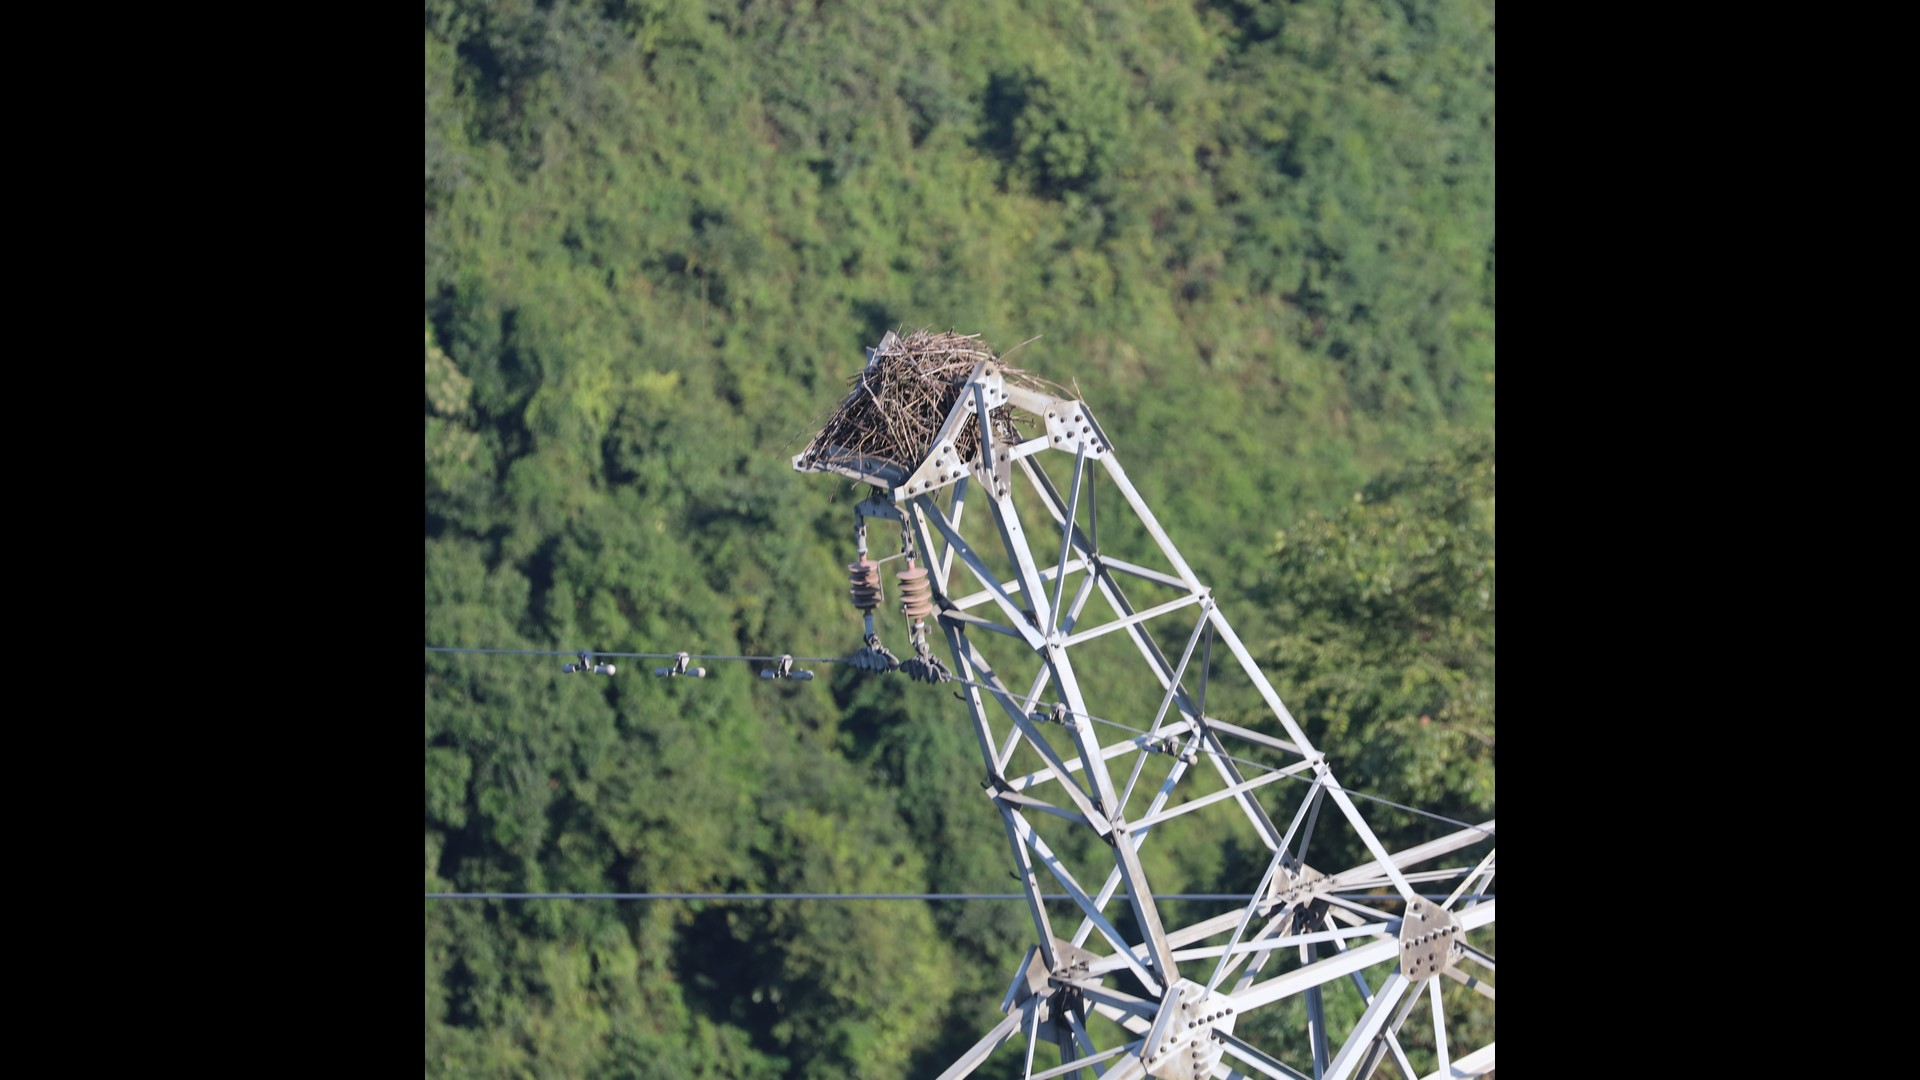niaowo: (818, 316, 1036, 481)
